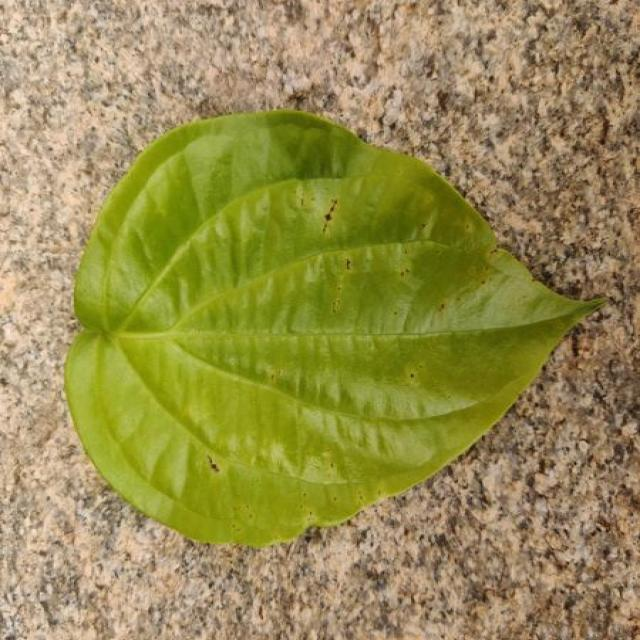betel: (65, 111, 603, 544)
